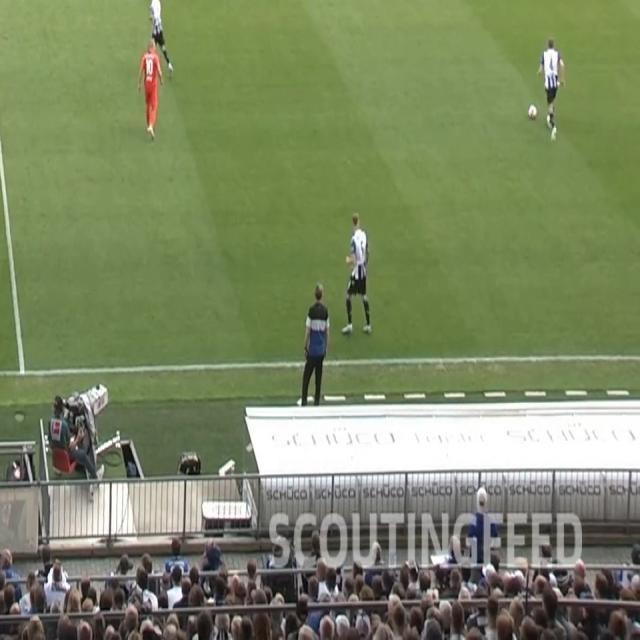ball: (528, 103, 538, 121)
